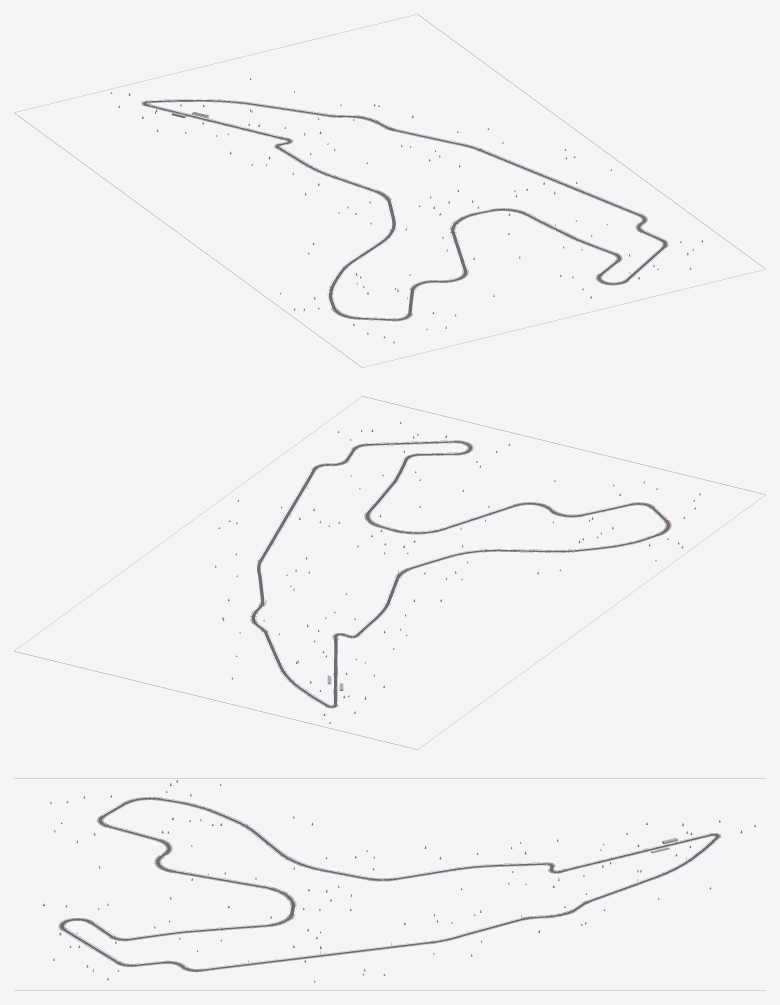
The model's file is spa.glb.
3 views of the same model, one above another, from view 1: azimuth 30°, elevation 25°; view 2: azimuth 150°, elevation 25°; view 3: azimuth 270°, elevation 25° (orthographic). The views are drawn at different scales.
Visible parts, largest first — view 1: spa.tarmac, spa.barrier, spa.gravel; view 2: spa.tarmac, spa.barrier, spa.gravel; view 3: spa.barrier, spa.tarmac, spa.gravel, spa.foliage.
Part boxes in pixels (box(x1,y1,x2,y2)): spa.tarmac: box(142, 100, 666, 320); spa.barrier: box(14, 14, 765, 367); spa.gravel: box(141, 100, 668, 321); spa.tarmac: box(251, 441, 670, 707); spa.barrier: box(14, 396, 765, 749); spa.gravel: box(250, 440, 671, 708); spa.barrier: box(14, 778, 765, 990); spa.tarmac: box(60, 797, 719, 971); spa.gravel: box(58, 797, 721, 972); spa.foliage: box(43, 780, 755, 982).
Bounding box in the file's own units: 1575 × 12.5 × 2354.
